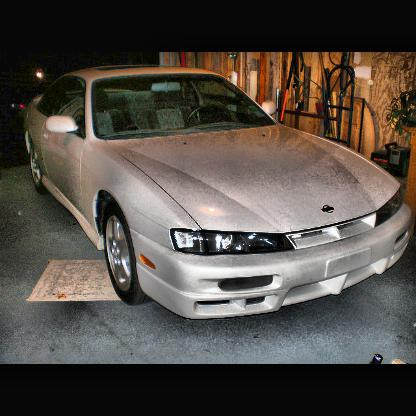Nissan 240SX Coupe 1998: (21, 63, 416, 325)
